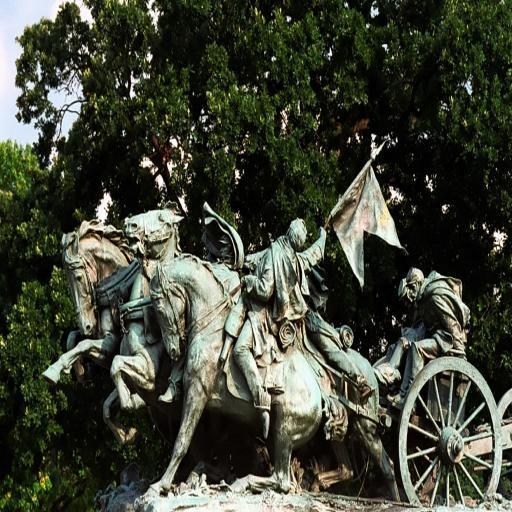horse: (98, 200, 399, 504), (40, 216, 138, 388)
